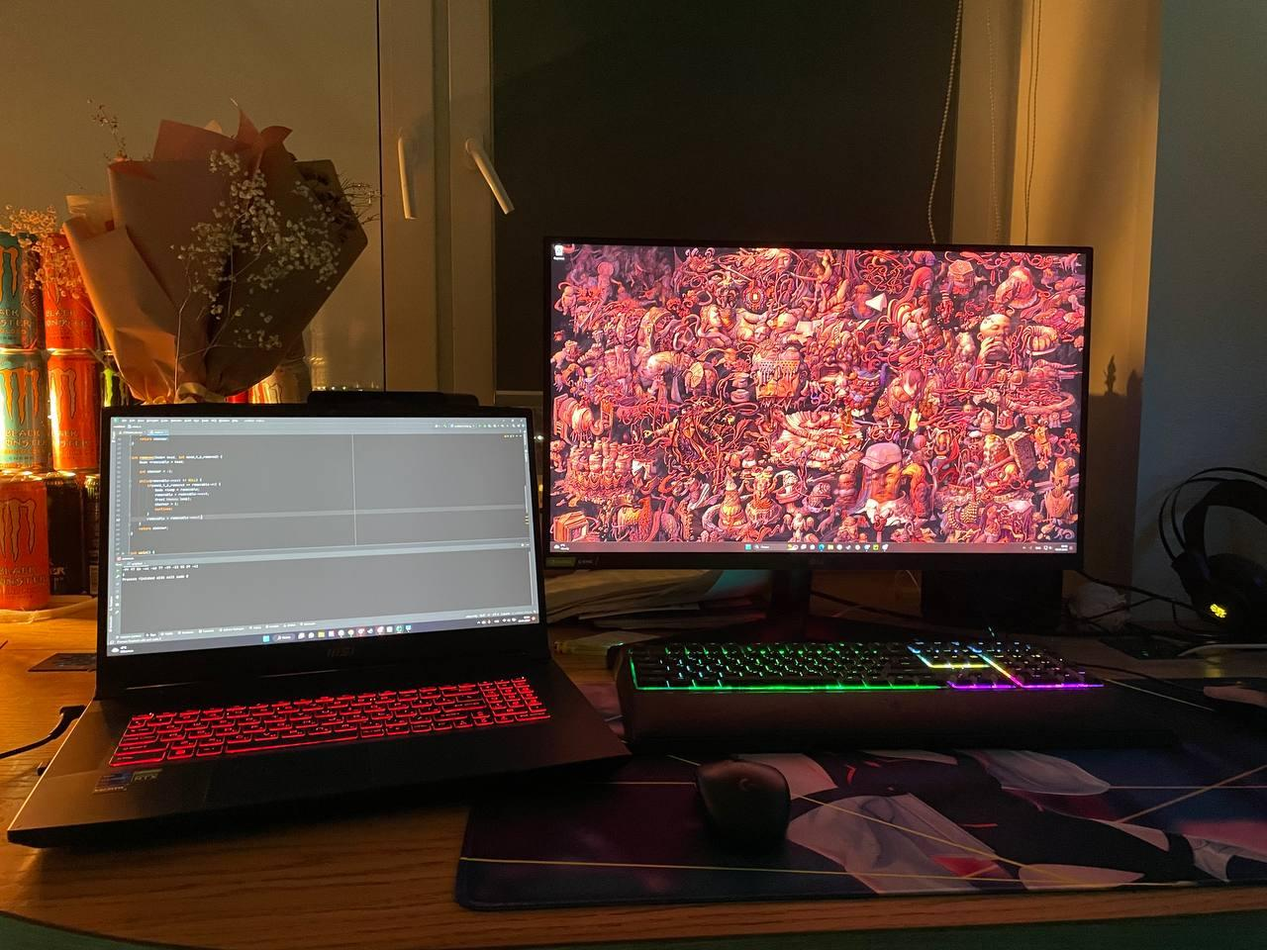monitor: (533, 230, 1097, 581), (95, 396, 554, 690)
